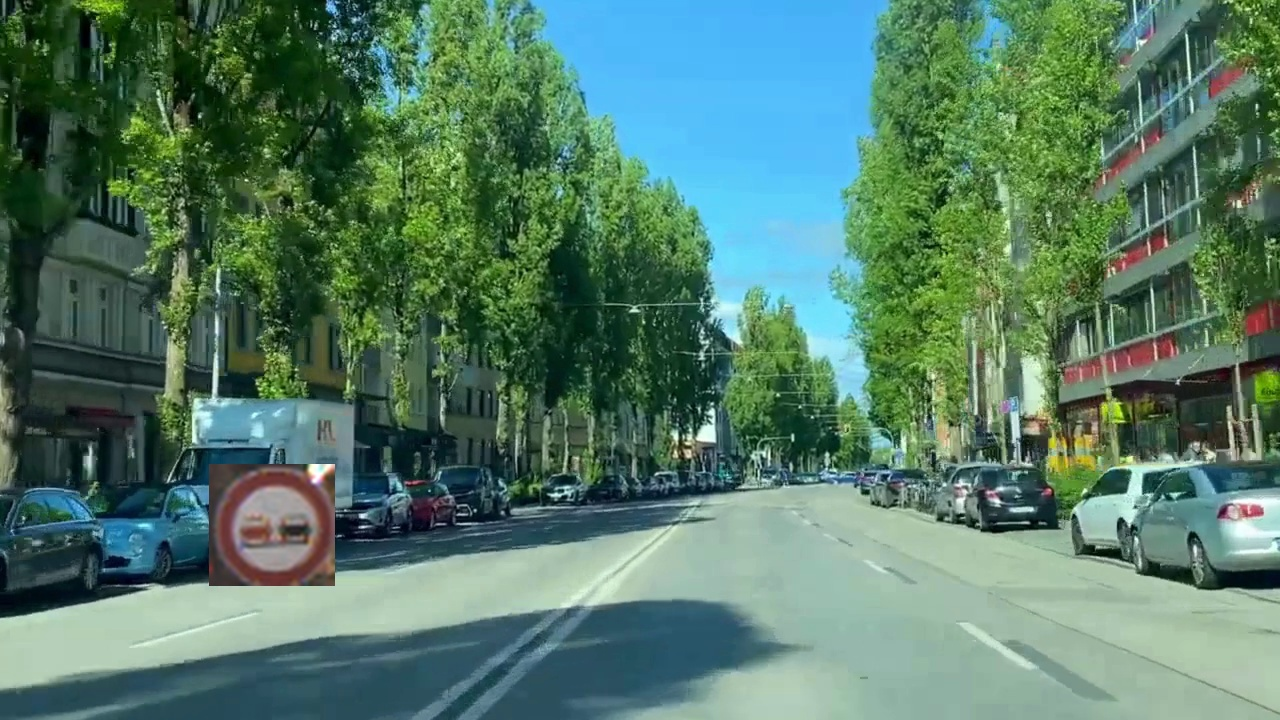No passing: (209, 464, 335, 586)
